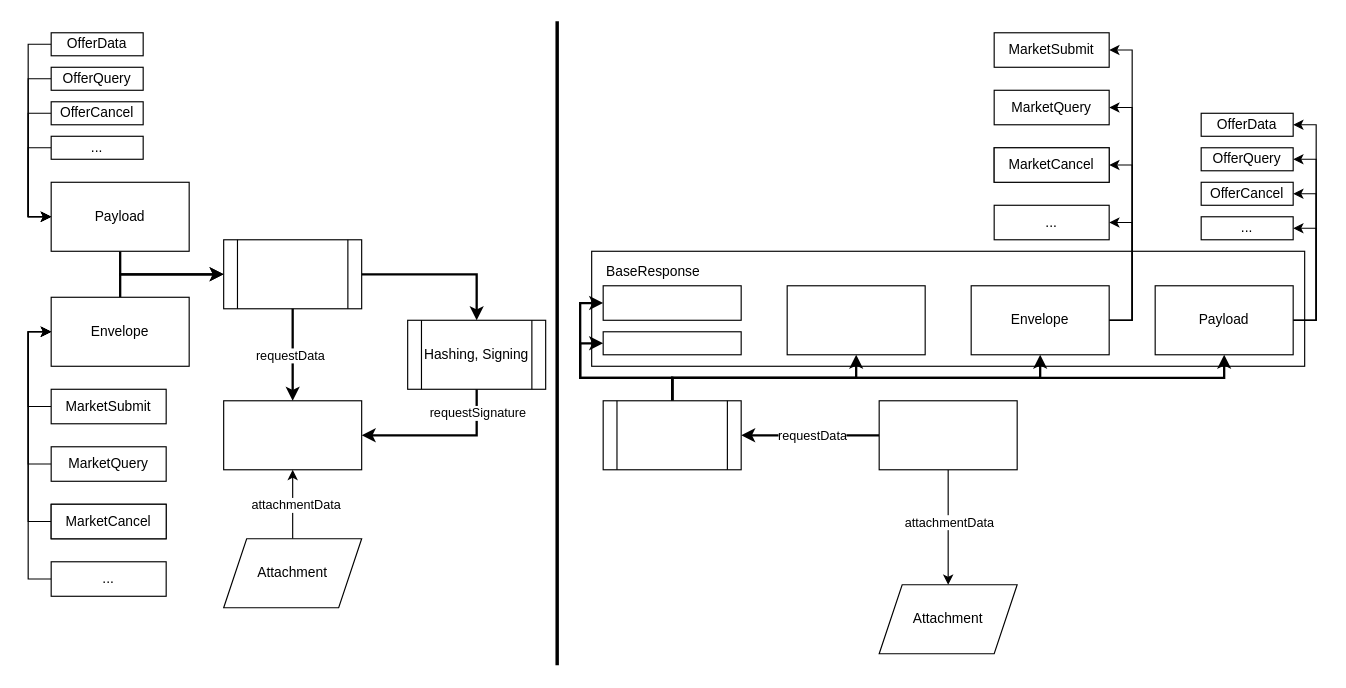
Some shapes in this 1346 by 688 pixel diagram are drawn without their labels. Here are the shapes that lost their labels. From the top down, the centre of each, then its label:
(x=292, y=274): Serialization
(x=671, y=302): Messages
(x=855, y=320): Response MultiResponse
(x=671, y=343): ProcessingStatistics
(x=292, y=435): MmsRequest
(x=671, y=435): Deserialization
(x=947, y=435): MmsResponse
